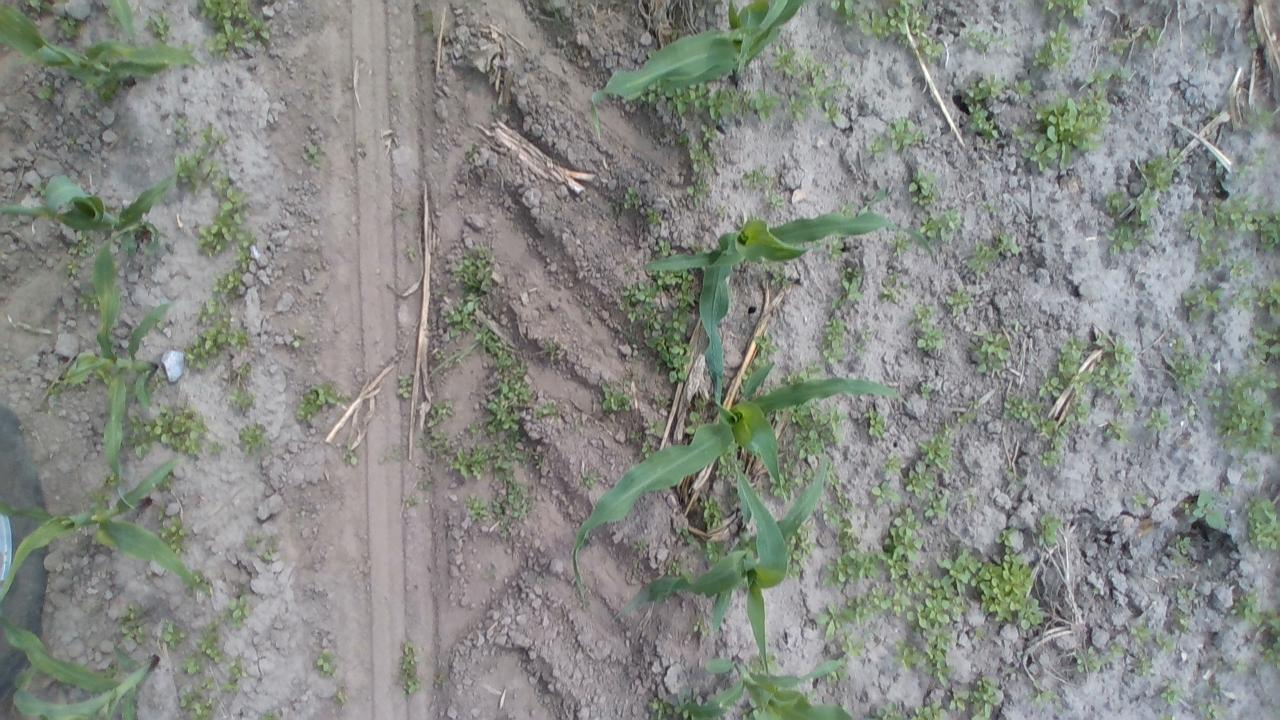Maize: (576, 363, 894, 604), (642, 212, 946, 408), (620, 457, 832, 678), (0, 459, 207, 604), (588, 0, 802, 140), (67, 229, 175, 505), (1, 0, 210, 86), (0, 614, 158, 718), (0, 168, 180, 257), (685, 654, 857, 719)
Weeds: (1022, 92, 1114, 171), (642, 273, 693, 384), (480, 326, 530, 436), (1216, 366, 1277, 456), (864, 0, 944, 59), (977, 550, 1034, 621), (825, 520, 881, 584), (196, 184, 245, 253), (670, 86, 775, 118), (880, 506, 924, 582), (799, 54, 848, 122), (792, 402, 846, 458), (741, 159, 794, 214), (210, 228, 252, 296), (144, 408, 206, 454), (966, 72, 1004, 140), (492, 478, 535, 536), (784, 525, 824, 585), (188, 324, 246, 364), (911, 587, 964, 627), (920, 628, 956, 686), (1031, 19, 1070, 68), (1142, 146, 1186, 189), (1035, 417, 1073, 466), (644, 687, 700, 720), (1051, 338, 1086, 390), (823, 464, 858, 516), (116, 597, 154, 644), (857, 588, 912, 620), (1246, 496, 1278, 550), (450, 442, 492, 483), (628, 414, 664, 461), (936, 547, 979, 586), (1180, 284, 1224, 322), (688, 139, 714, 202), (918, 206, 962, 243), (970, 673, 1005, 719), (441, 292, 479, 334), (916, 422, 954, 464), (911, 307, 944, 355), (1212, 198, 1260, 231), (974, 332, 1010, 374), (878, 265, 911, 310), (297, 383, 336, 421), (1090, 358, 1128, 397), (1239, 324, 1280, 360), (1192, 238, 1234, 273), (1258, 604, 1280, 670), (1193, 489, 1228, 529), (818, 601, 856, 636), (1082, 66, 1133, 92), (1038, 510, 1068, 554), (1066, 380, 1098, 421), (1253, 208, 1280, 256), (218, 650, 246, 696), (700, 496, 733, 535), (1172, 356, 1209, 390), (619, 280, 645, 328), (64, 236, 92, 280), (460, 250, 492, 288), (400, 640, 422, 695), (1003, 397, 1043, 427), (908, 164, 938, 204), (887, 638, 920, 674), (195, 118, 234, 148), (197, 297, 237, 326), (1068, 642, 1102, 676), (964, 21, 996, 57), (1182, 210, 1214, 245), (966, 240, 998, 275), (198, 619, 226, 659), (1108, 224, 1144, 255), (495, 433, 525, 470), (838, 262, 864, 304), (888, 118, 924, 148), (1104, 185, 1133, 222), (196, 1, 252, 20), (1040, 0, 1090, 21), (780, 360, 821, 385), (905, 465, 938, 496), (168, 108, 196, 144), (746, 648, 784, 674), (856, 319, 878, 362), (824, 316, 846, 359), (158, 616, 184, 652), (598, 382, 628, 413), (752, 331, 778, 366), (829, 0, 860, 29), (671, 519, 700, 550), (180, 690, 212, 718), (300, 142, 328, 174), (98, 82, 130, 110), (1195, 696, 1232, 720), (1156, 682, 1192, 706), (770, 41, 796, 74), (146, 10, 172, 43), (1028, 678, 1058, 706), (229, 594, 255, 626), (782, 94, 809, 124), (173, 152, 203, 179), (1167, 605, 1194, 635), (764, 262, 799, 285), (870, 698, 906, 720), (1112, 336, 1138, 366), (1234, 590, 1260, 620), (910, 699, 947, 720), (704, 539, 729, 570), (1140, 23, 1168, 50), (1168, 533, 1190, 566), (871, 480, 900, 505), (1199, 28, 1223, 58), (993, 518, 1017, 548), (213, 25, 244, 48), (245, 18, 272, 44), (664, 554, 693, 578), (426, 430, 449, 460), (1180, 390, 1202, 421), (954, 396, 980, 422), (238, 424, 264, 450), (839, 638, 866, 663), (944, 290, 972, 314), (1156, 626, 1180, 654), (865, 406, 886, 438), (128, 427, 150, 457), (648, 389, 679, 410), (1230, 255, 1256, 280), (1258, 281, 1278, 313), (922, 496, 951, 518), (162, 515, 184, 544), (1138, 188, 1160, 217), (330, 686, 356, 710), (478, 560, 502, 586), (653, 236, 677, 262), (1127, 622, 1153, 646), (1144, 406, 1170, 430), (232, 382, 254, 410), (768, 474, 790, 502), (996, 232, 1020, 257), (193, 570, 218, 594), (544, 332, 564, 362), (1134, 650, 1154, 680), (1036, 376, 1062, 399), (428, 401, 454, 424), (888, 231, 912, 255), (428, 668, 454, 690), (1234, 284, 1254, 312), (1114, 394, 1140, 415), (814, 504, 840, 525), (884, 450, 906, 474), (55, 16, 77, 40), (1106, 418, 1127, 443), (948, 686, 968, 712), (1251, 146, 1274, 168), (1008, 120, 1028, 145), (397, 374, 415, 401), (961, 490, 982, 513), (688, 618, 712, 638), (1250, 108, 1274, 128), (430, 345, 450, 369), (863, 136, 884, 158), (1108, 33, 1129, 55), (1106, 639, 1126, 662), (534, 400, 561, 417), (1173, 585, 1197, 604), (316, 649, 334, 674), (624, 186, 642, 211), (826, 671, 854, 687), (685, 409, 702, 435), (182, 656, 204, 676), (1238, 467, 1262, 485), (1244, 26, 1262, 50), (341, 445, 358, 470), (466, 496, 487, 516), (1169, 333, 1188, 355), (82, 287, 99, 311), (90, 490, 114, 507), (36, 83, 56, 103), (582, 469, 601, 490), (259, 538, 277, 560), (716, 457, 734, 479), (465, 420, 482, 443), (243, 530, 260, 552), (28, 184, 51, 200), (976, 198, 1002, 212), (1011, 77, 1030, 96), (290, 333, 309, 352), (826, 240, 844, 260), (150, 372, 168, 392), (969, 627, 986, 648), (42, 382, 64, 397), (645, 207, 662, 226), (632, 534, 648, 554), (398, 497, 419, 512), (793, 469, 814, 484), (997, 34, 1011, 56), (646, 83, 660, 104), (203, 160, 224, 174), (918, 378, 932, 399), (840, 202, 861, 215), (200, 35, 217, 51), (714, 204, 728, 222), (701, 122, 716, 138), (417, 480, 437, 492), (262, 706, 279, 720), (1230, 659, 1249, 671), (1132, 493, 1148, 507), (1090, 585, 1102, 603), (1202, 109, 1218, 122), (178, 39, 194, 51), (95, 371, 110, 383), (212, 441, 224, 456), (162, 475, 175, 488), (740, 367, 752, 381), (200, 677, 213, 688), (106, 476, 120, 486), (63, 138, 75, 145)
